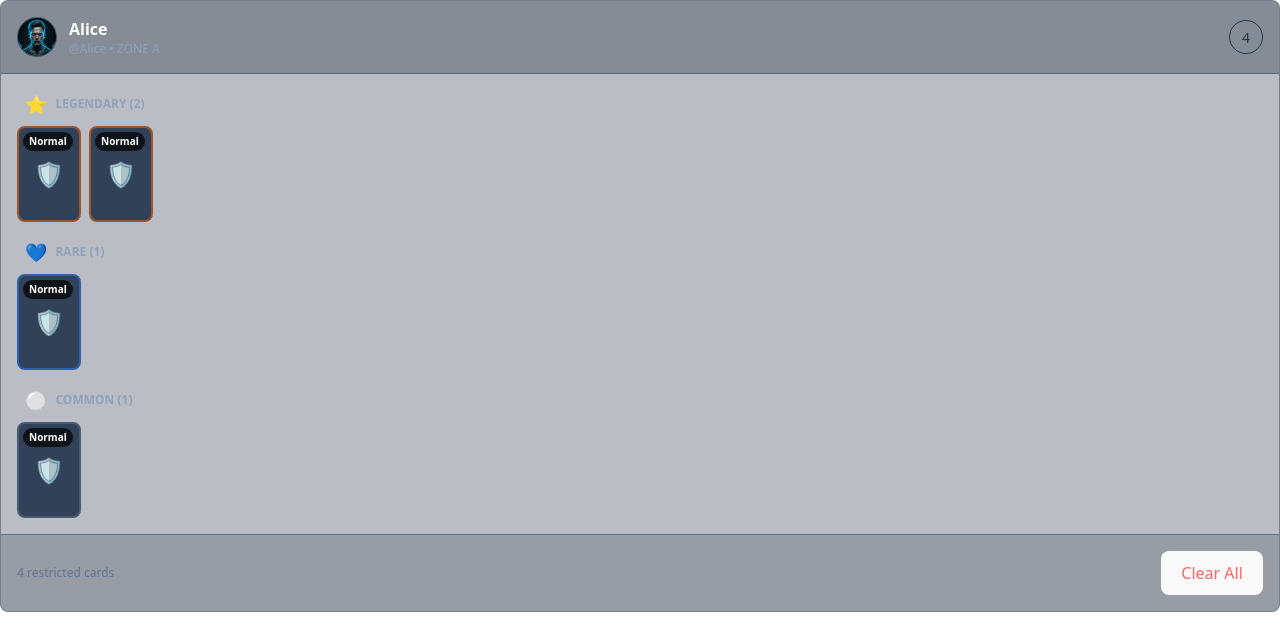
Test: RestrictionCard › Clear All › should show confirmation dialog when Clear All clicked
Step 1. Click the button with aria-label "Clear all restrictions" → [1212, 573], box [1161, 551, 1263, 595]
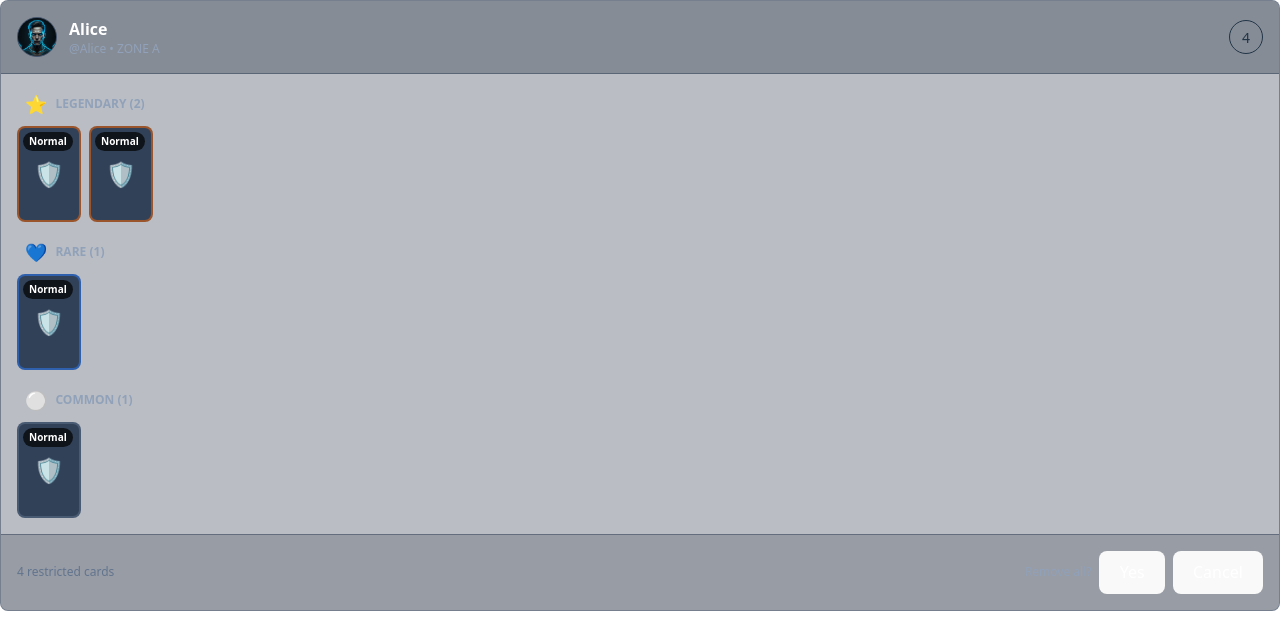
Expected: the button with aria-label "Confirm clear all" is shown, [1100, 551, 1165, 594]
Expected: the button with aria-label "Cancel clear all" is shown, [1173, 551, 1263, 594]
